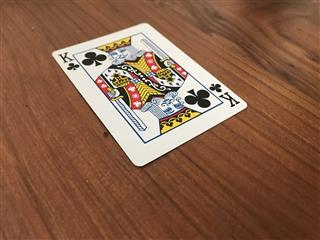KingOfClubs: (50, 21, 248, 166)
